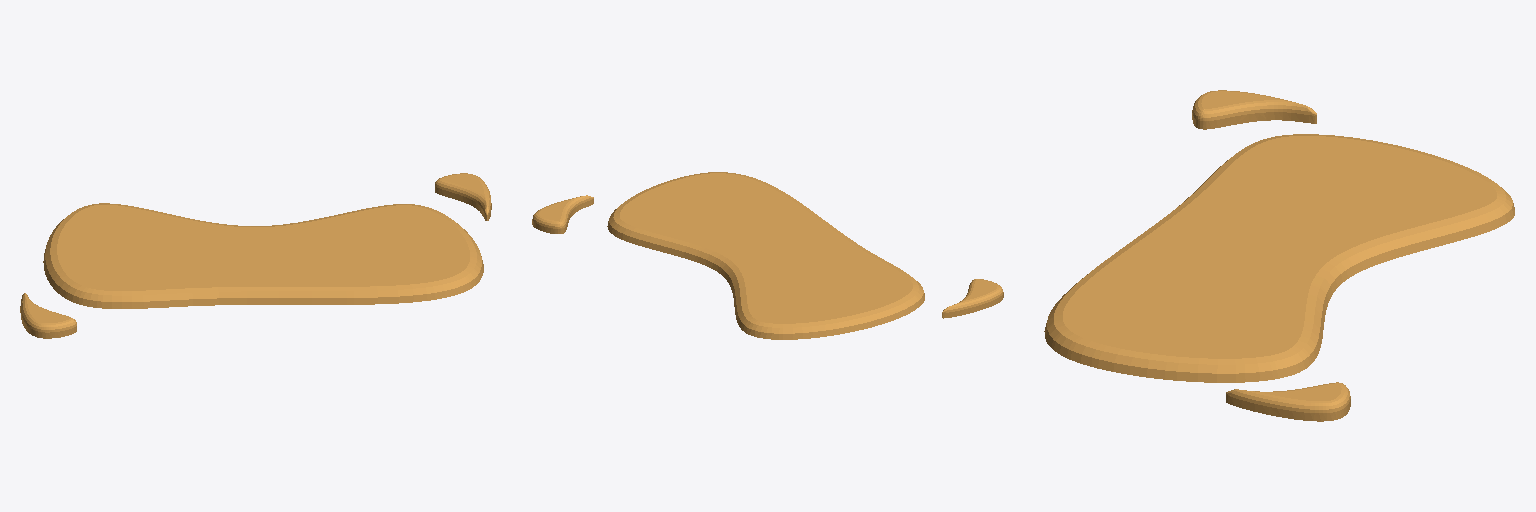
robot.urdf — box.SLDPRT:
<?xml version="1.0" encoding="utf-8"?>
<!-- This URDF was automatically created by SolidWorks to URDF Exporter! Originally created by [author] ([email redacted]) 
     Commit Version: 1.5.1-0-g916b5db  Build Version: 1.5.7152.31018
     For more information, please see http://wiki.ros.org/sw_urdf_exporter -->
<robot
  name="box.SLDPRT">
  <link
    name="box.SLDPRT">
    <inertial>
      <origin
        xyz="1.2996E-17 1.20353843572399E-16 0.16926"
        rpy="0 0 0" />
      <mass
        value="0" />
      <inertia
        ixx="1.73042"
        ixy="-1.2824E-17"
        ixz="-2.8299E-17"
        iyy="1.73042"
        iyz="2.85579897269348E-17"
        izz="1.0053" />
    </inertial>
    <visual>
      <origin
        xyz="0 0 0"
        rpy="1.5707963267949 0 0" />
      <geometry>
        <mesh
          filename="models/meshes/liquid/liquid.STL" scale="10 10 10"/>
      </geometry>
      <material
        name="">
        <color
          rgba="0.8824 0.6784 0.39 0.5" />
      </material>
    </visual>
    <collision>
      <origin
        xyz="0 0 0"
        rpy="1.5707963267949 0 0" />
      <geometry>
        <mesh
          filename="models/meshes/liquid/liquid.STL" scale="10 10 10"/>
      </geometry>
    </collision>
  </link>
</robot>

--- Render facts (derived) ---
3 views of the same robot in one strip: view 1: azimuth 30°, elevation 25°; view 2: azimuth 150°, elevation 25°; view 3: azimuth 270°, elevation 25° (orthographic).
Model box.SLDPRT with 1 links and 0 joints (none), rooted at box.SLDPRT, posed all joints at 0.
Visible links, largest first — view 1: box.SLDPRT; view 2: box.SLDPRT; view 3: box.SLDPRT.
Link boxes in pixels (box(x1,y1,x2,y2)): box.SLDPRT: box(20, 173, 491, 338); box.SLDPRT: box(532, 172, 1003, 339); box.SLDPRT: box(1044, 90, 1514, 421).
Bounding box of the posed robot: 0.8285 × 0.5191 × 0.02 m (x, y, z).
Meshes: 1 distinct files referenced, 1 mesh visuals loaded (1 binary STL).